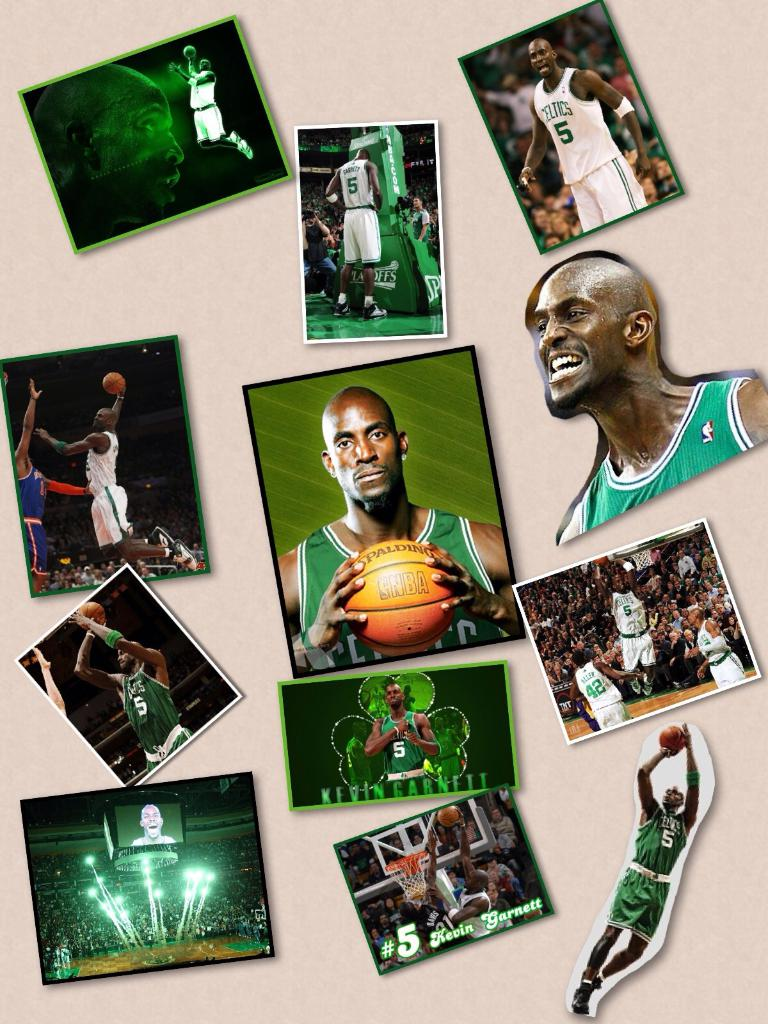Ball: (346, 538, 468, 653)
